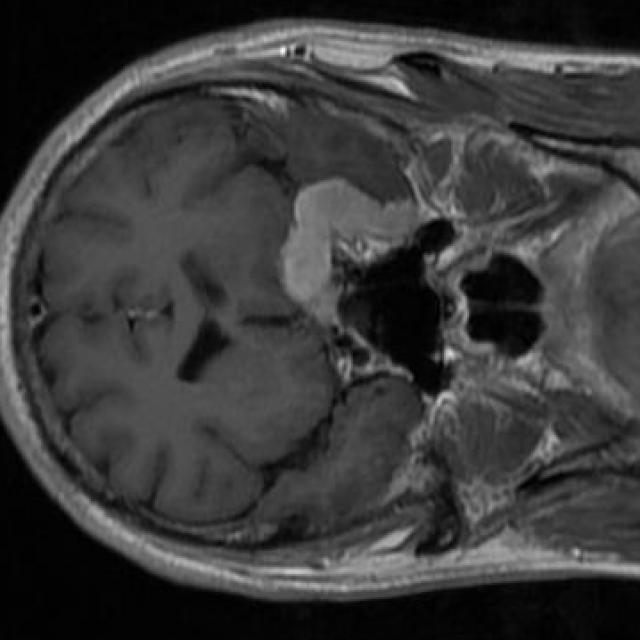meningioma: (282, 178, 419, 328)
